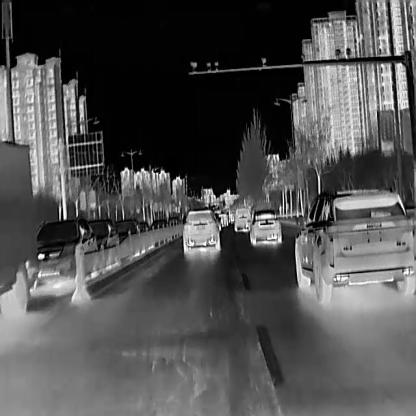car: (294, 187, 414, 304), (34, 217, 97, 292), (180, 206, 220, 254), (86, 217, 118, 269), (246, 207, 281, 245), (115, 218, 139, 255), (233, 206, 251, 230), (149, 217, 169, 237)
truck: (0, 140, 35, 318)
